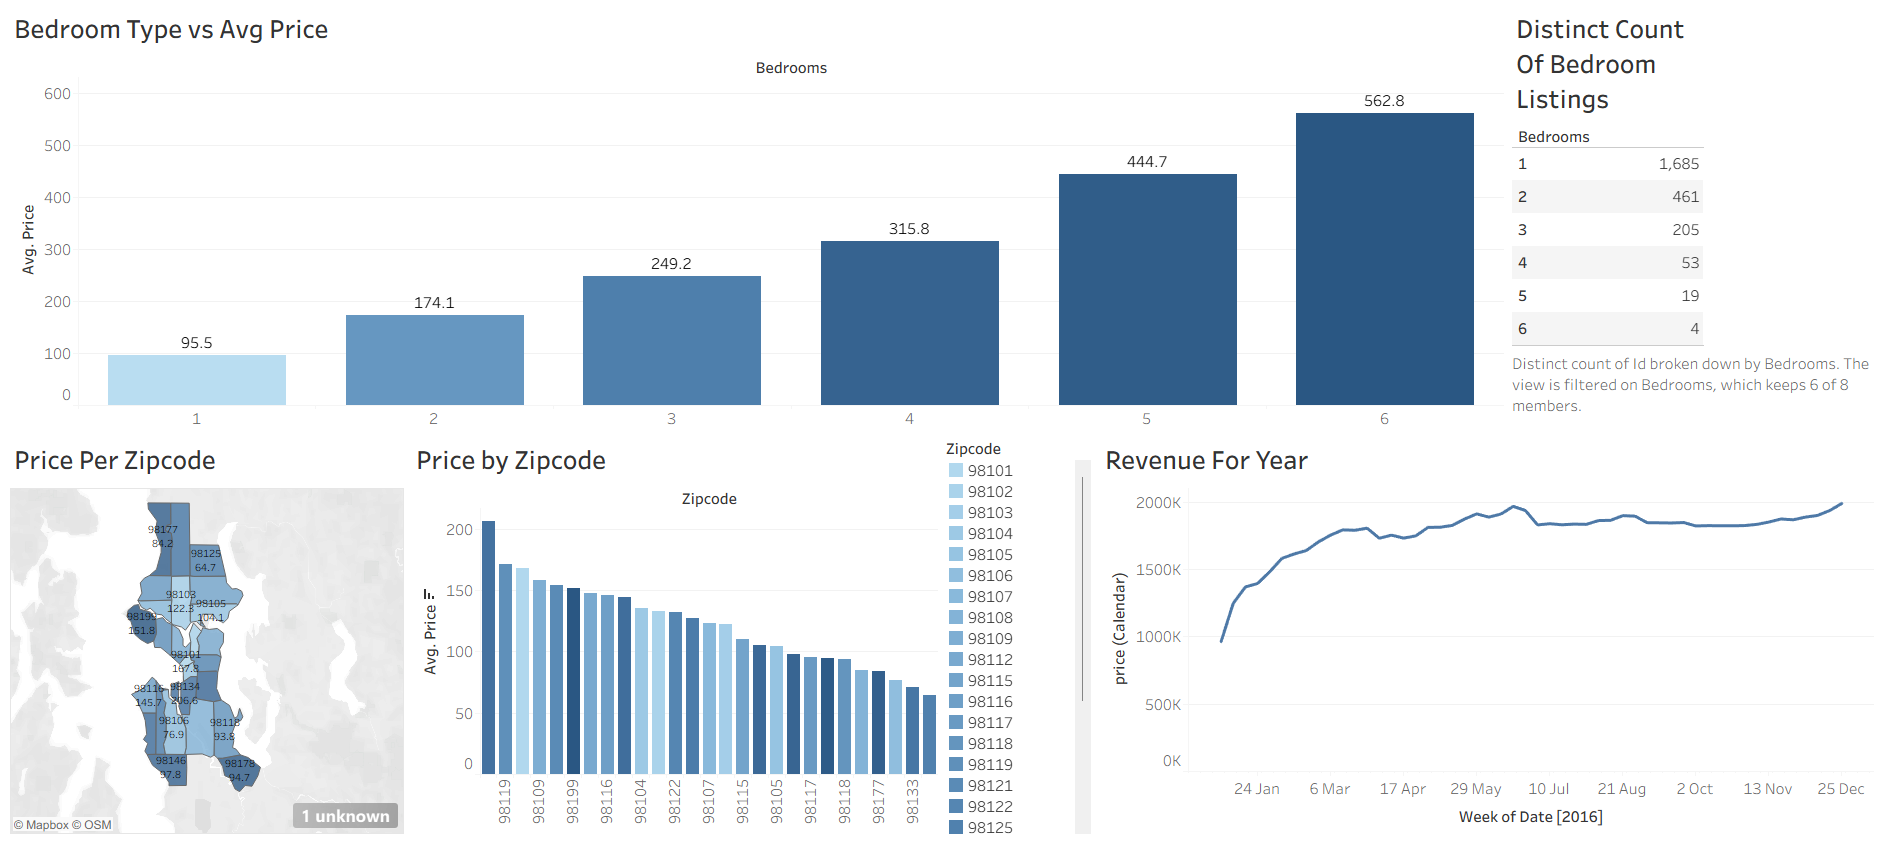

What the dashboard file says about the page in this screenshot:
{"tool":"tableau","page":{"name":"Dashboard 1","canvas":[1000,1000],"units":"permille","ordinal":0},"visuals":[{"type":"worksheet","title":"Bedroom Type vs Avg Price","mark":"Automatic","rows":["price"],"cols":["bedrooms"],"box":[5.3,9.4,793.6,506.5]},{"type":"worksheet","title":"Distinct Count Of Bedroom Listings","mark":"Automatic","rows":["bedrooms"],"box":[798.9,9.4,195.7,506.5]},{"type":"worksheet","title":"Price per zipcode","mark":"Multipolygon","box":[5.3,515.9,212.4,474.7]},{"type":"worksheet","title":"Price & Zip","mark":"Automatic","rows":["price"],"cols":["zipcode"],"box":[217.7,515.9,282.3,474.7]},{"type":"legend","title":"Price & Zip","param":"[federated.0xtm24y1k7th241d57gw4082fuuw].[none:zipcode:ok]","box":[500,515.9,81.9,474.7]},{"type":"worksheet","title":"Revenue For Year","mark":"Automatic","rows":["price (Calendar)"],"cols":["date"],"box":[581.9,515.9,412.8,474.7]}]}

Visuals, with their boxes on the dashboard's canvas, which has no fixed pixel size, in thousandths of its width and height (x1, y1, x2, y2). These are canvas units, not pixel positions in the 1878x844 screenshot, which may show the page scaled, cropped or inside an application window:
"Bedroom Type vs Avg Price" worksheet: bbox(5, 9, 799, 516)
"Distinct Count Of Bedroom Listings" worksheet: bbox(799, 9, 995, 516)
"Price per zipcode" worksheet (Multipolygon marks): bbox(5, 516, 218, 991)
"Price & Zip" worksheet: bbox(218, 516, 500, 991)
"Price & Zip" legend: bbox(500, 516, 582, 991)
"Revenue For Year" worksheet: bbox(582, 516, 995, 991)
